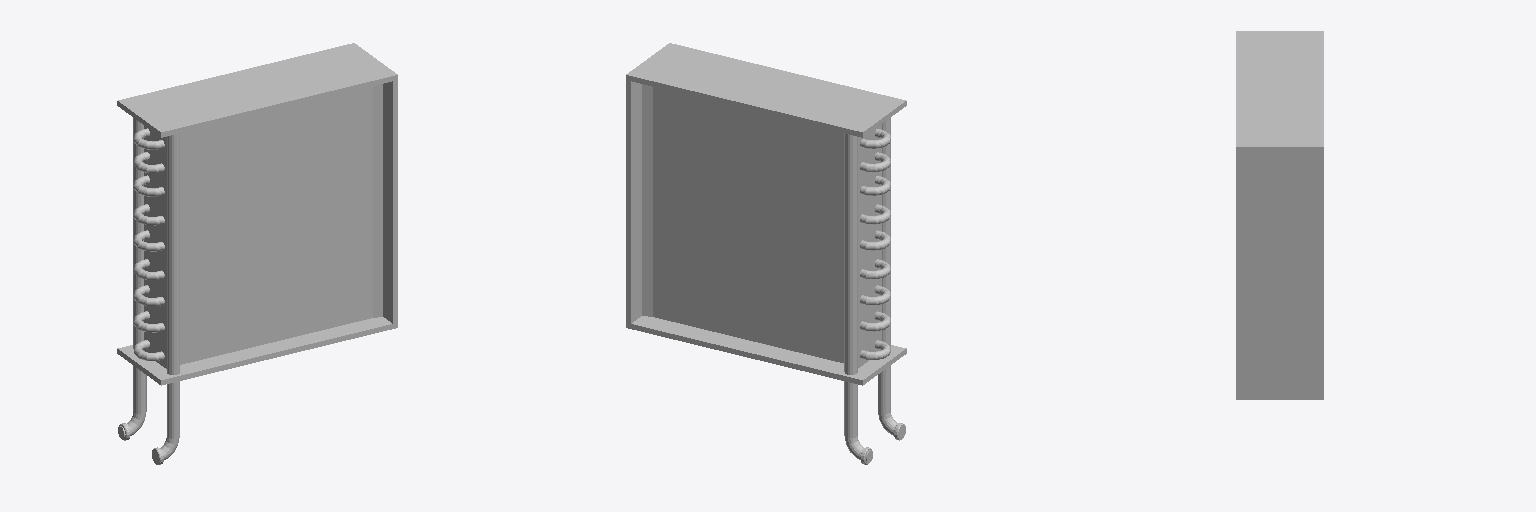
File: CoolingCoil.obj
The picture shows the model from 3 angles: view 1: azimuth 30°, elevation 25°; view 2: azimuth 150°, elevation 25°; view 3: azimuth 270°, elevation 25°; orthographic projection.
Visible parts, largest first — view 1: CoolingCoil.obj; view 2: CoolingCoil.obj; view 3: CoolingCoil.obj.
Part boxes in pixels (left/top/right/bottom): CoolingCoil.obj: left=117, top=43, right=397, bottom=464; CoolingCoil.obj: left=626, top=43, right=906, bottom=464; CoolingCoil.obj: left=1236, top=31, right=1323, bottom=399.
Size of the model in its own units: 1.22 by 1.63 by 0.3848.